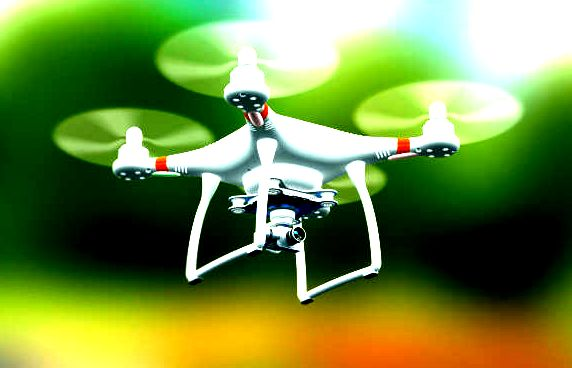Drone: (50, 17, 524, 306)
